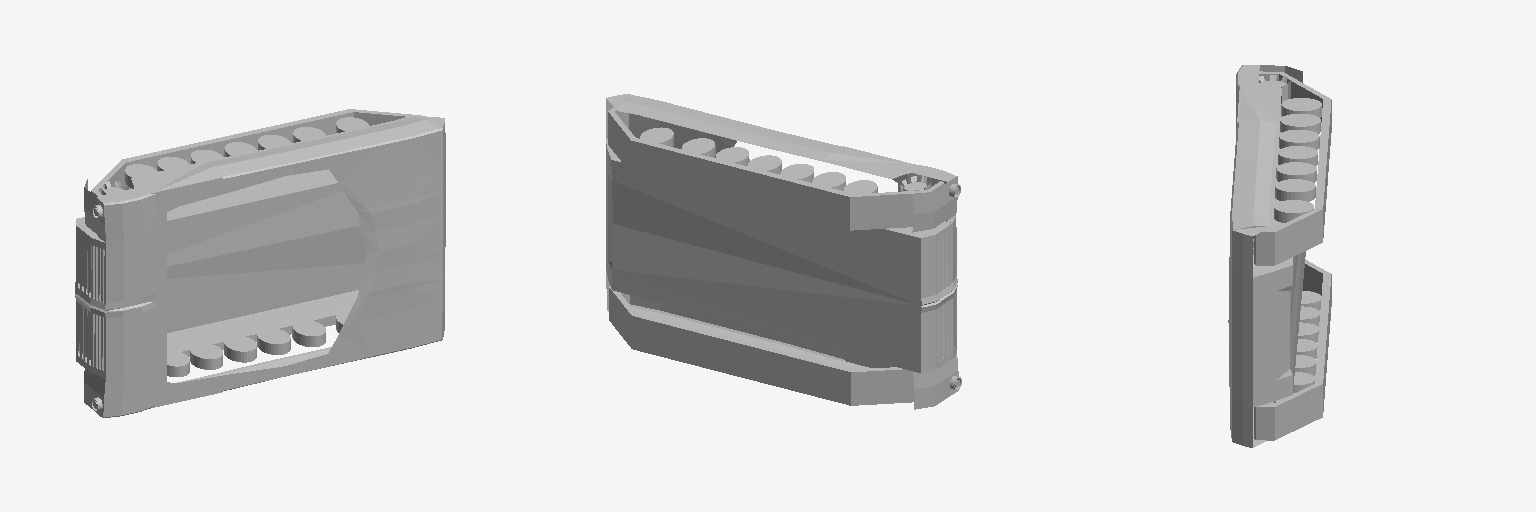
The model's file is TankBottom8.obj.
The picture shows the model from 3 angles: view 1: azimuth 30°, elevation 25°; view 2: azimuth 150°, elevation 25°; view 3: azimuth 270°, elevation 25°; orthographic projection.
Parts seen in each view (by area): view 1: Plane.001_Plane.001, Cube.006, Cylinder.023, Cylinder.026, Cylinder.018, Cylinder.020; view 2: Plane.001_Plane.001, Cube.006, Cube.002; view 3: Plane.001_Plane.001, Cube.006, Cube.002, Cylinder.024, Cylinder.003, Cylinder.002, Cylinder.019, Cylinder.027, Cylinder.000, Cylinder.025.
Boxes of the visible parts, x1=… form: Plane.001_Plane.001: x1=75, y1=115, x2=445, y2=417; Cube.006: x1=91, y1=109, x2=421, y2=196; Cylinder.023: x1=292, y1=321, x2=325, y2=346; Cylinder.026: x1=257, y1=329, x2=290, y2=354; Cylinder.018: x1=224, y1=337, x2=256, y2=362; Cylinder.020: x1=190, y1=344, x2=222, y2=369; Plane.001_Plane.001: x1=606, y1=94, x2=961, y2=409; Cube.006: x1=608, y1=108, x2=943, y2=230; Cube.002: x1=609, y1=286, x2=913, y2=405; Plane.001_Plane.001: x1=1228, y1=65, x2=1305, y2=447; Cube.006: x1=1254, y1=71, x2=1331, y2=265; Cube.002: x1=1253, y1=248, x2=1331, y2=440; Cylinder.024: x1=1275, y1=179, x2=1315, y2=201; Cylinder.003: x1=1276, y1=162, x2=1316, y2=182; Cylinder.002: x1=1274, y1=200, x2=1313, y2=222; Cylinder.019: x1=1279, y1=130, x2=1319, y2=149; Cylinder.027: x1=1280, y1=114, x2=1320, y2=133; Cylinder.000: x1=1281, y1=98, x2=1321, y2=117; Cylinder.025: x1=1278, y1=146, x2=1317, y2=165.
Bounding box in the file's own units: 16.63 × 9.86 × 4.22.